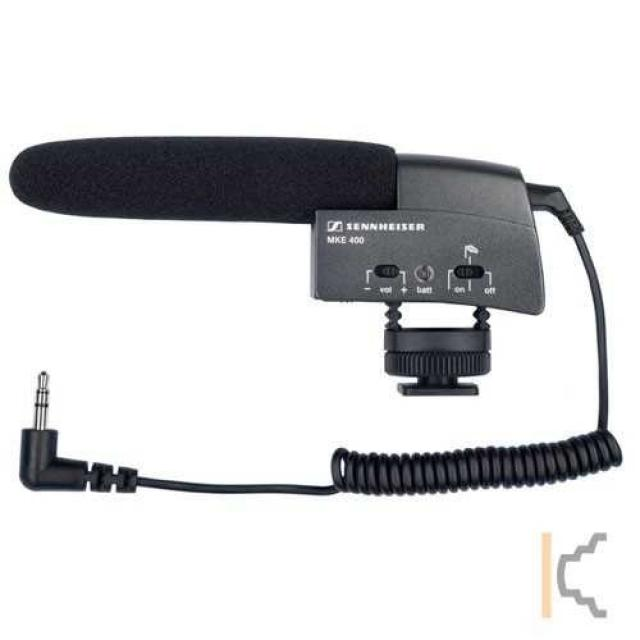microphone: (6, 140, 402, 220)
